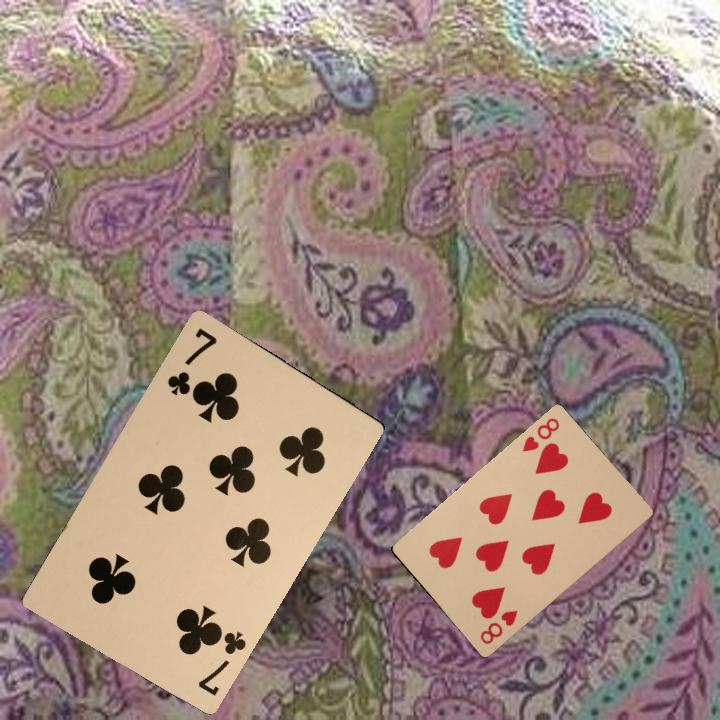7c: (193, 622, 249, 698), (163, 324, 220, 398)
8h: (476, 606, 520, 647), (518, 413, 562, 454)
